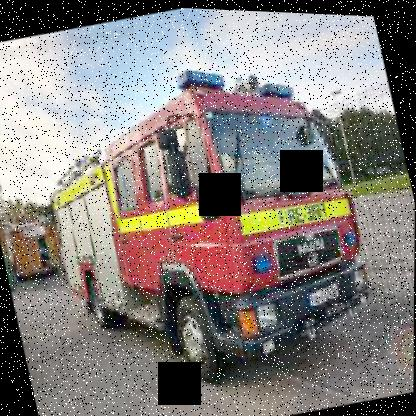emergency: (19, 29, 415, 415)
